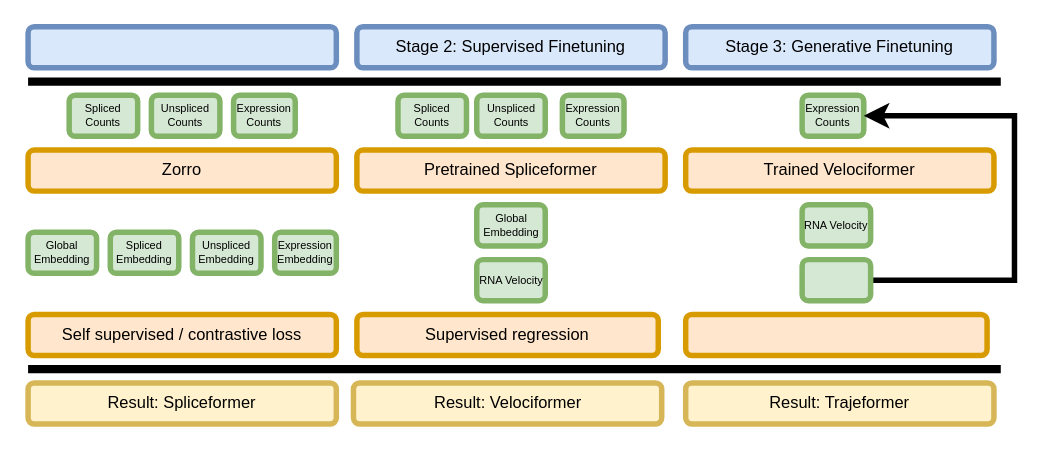
The diagram is 1051 pixels wide and 449 high, and some of its shapes have lost their labels. The centre of each missing label's shape, as x and y in pixels:
"Cell trajectory causal mask loss" goes at point (835, 334).
"Stage 1: Pretraining" goes at point (181, 46).
"Updated Expression" goes at point (836, 279).
